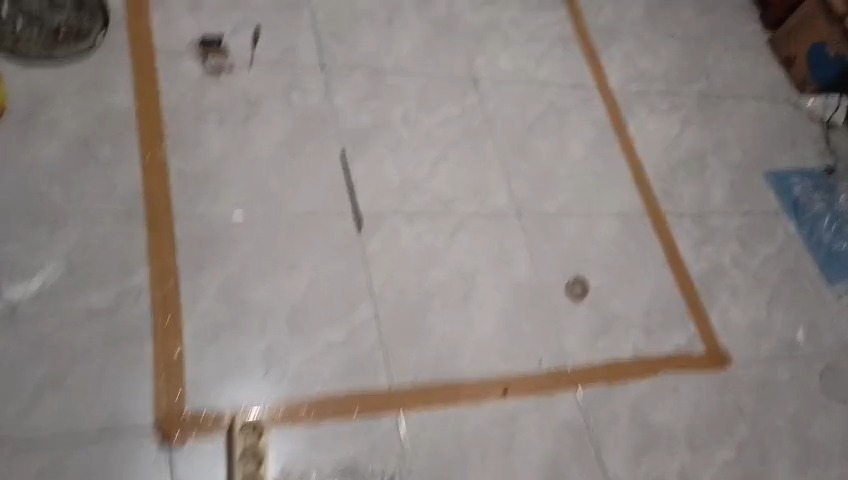floor marking: (259, 0, 731, 424), (125, 0, 252, 444)
